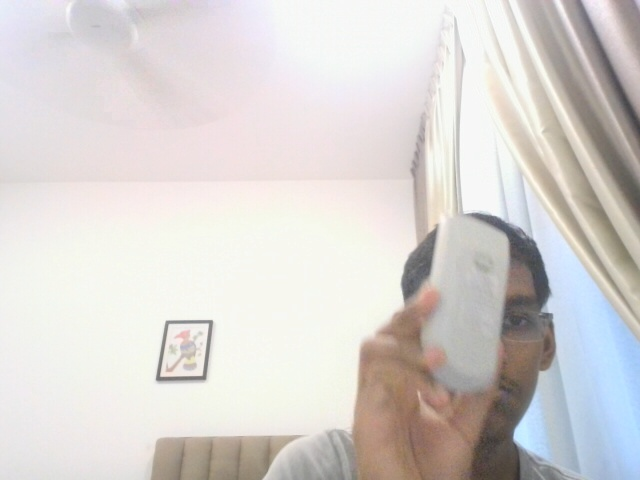remote: (421, 214, 511, 391)
